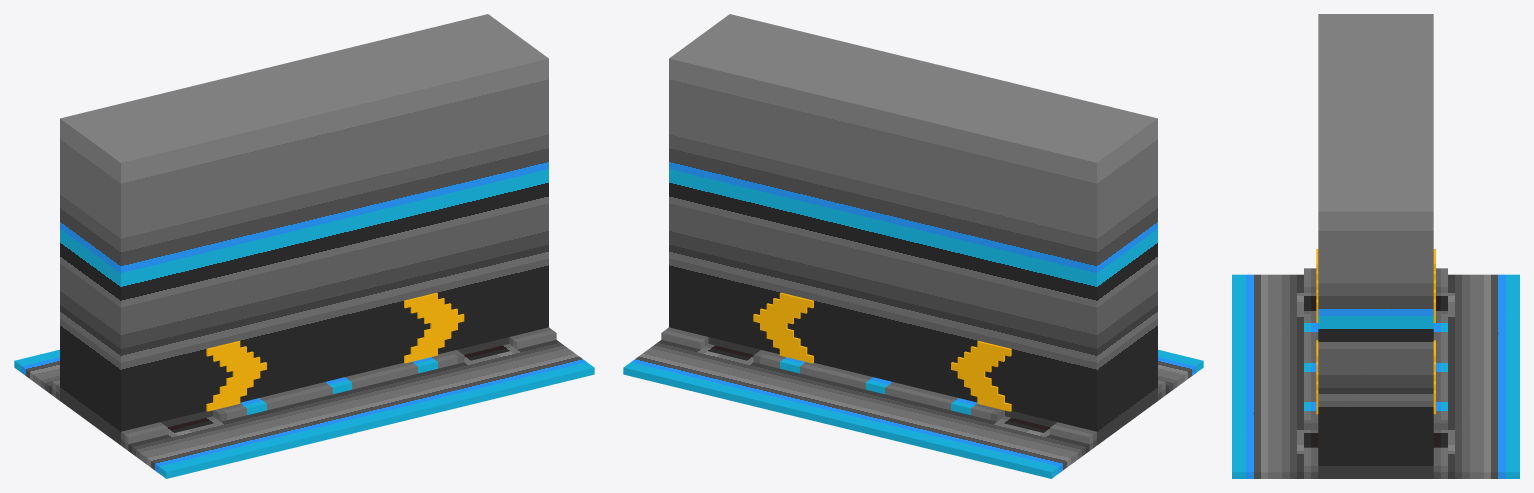
File: 模板赛道改1.gltf
3 views of the same model, side by side, from view 1: azimuth 30°, elevation 25°; view 2: azimuth 150°, elevation 25°; view 3: azimuth 270°, elevation 25° (orthographic). The views are drawn at different scales.
Parts seen in each view (by area): view 1: Object-1, Object; view 2: Object-1, Object; view 3: Object-1, Object (×2).
Part boxes in pixels (box(x1,y1,x2,y2)): Object-1: box(14, 14, 594, 478); Object: box(206, 292, 464, 411); Object-1: box(623, 14, 1203, 478); Object: box(753, 292, 1011, 411); Object-1: box(1232, 14, 1519, 478); Object (×2): box(1316, 249, 1435, 414).
Size of the model in its own units: 65 by 41 by 40.
1 material, 1 textured.
